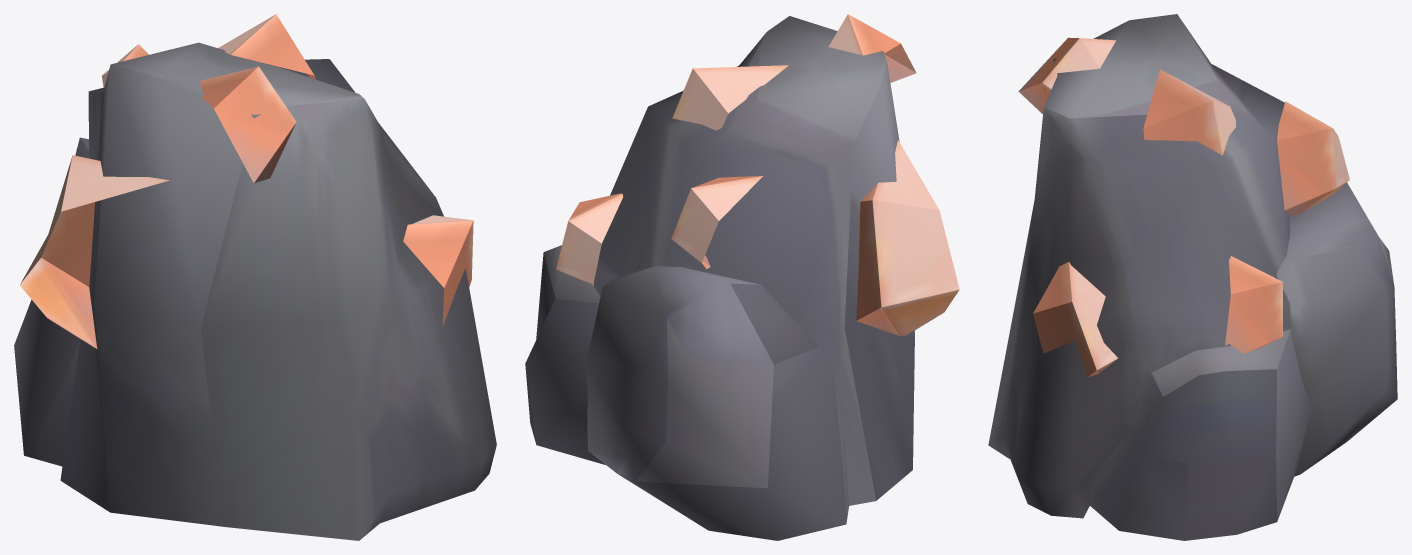
Rendered from RockLargeSalt.fbx.
3 views of the same model, side by side, from view 1: azimuth 30°, elevation 25°; view 2: azimuth 150°, elevation 25°; view 3: azimuth 270°, elevation 25° (orthographic). The views are drawn at different scales.
Visible parts, largest first — view 1: RockMesh, Resource1 (3), Resource3, Resource2, Resource2 (1); view 2: RockMesh, Resource1 (3), Resource2 (1), Resource1 (1), Resource1 (2), Resource3; view 3: RockMesh, Resource1 (1), Resource2, Resource2 (1), Resource1 (2), Resource3.
Part boxes in pixels (x1=…): RockMesh: x1=14, y1=42, x2=496, y2=540; Resource1 (3): x1=20, y1=155, x2=169, y2=348; Resource3: x1=199, y1=66, x2=296, y2=183; Resource2: x1=403, y1=215, x2=473, y2=327; Resource2 (1): x1=218, y1=14, x2=315, y2=79; RockMesh: x1=525, y1=16, x2=914, y2=540; Resource1 (3): x1=856, y1=140, x2=959, y2=336; Resource2 (1): x1=672, y1=65, x2=788, y2=130; Resource1 (1): x1=671, y1=176, x2=762, y2=268; Resource1 (2): x1=556, y1=193, x2=622, y2=285; Resource3: x1=828, y1=14, x2=916, y2=82; RockMesh: x1=988, y1=14, x2=1397, y2=540; Resource1 (1): x1=1277, y1=101, x2=1349, y2=215; Resource2: x1=1033, y1=262, x2=1117, y2=377; Resource2 (1): x1=1143, y1=69, x2=1235, y2=155; Resource1 (2): x1=1225, y1=256, x2=1282, y2=353; Resource3: x1=1018, y1=37, x2=1116, y2=113.
Size of what is drawn, in the model's own units: 2.25 by 2.12 by 2.03.
